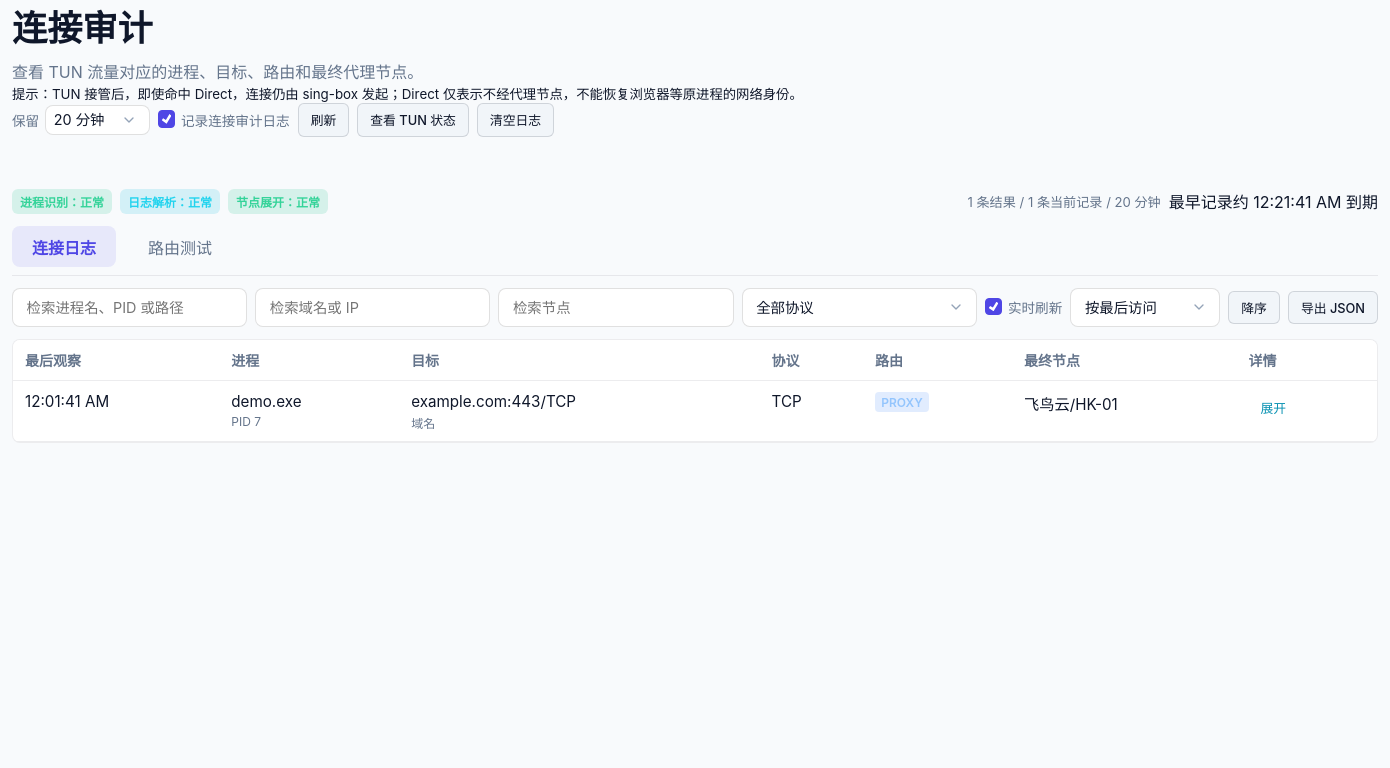
Test case: ConnectionAuditView › renders proxy-default audit rows and retention controls
This screenshot has width=1390, height=768.
Check: the dropdown labelled "保留" is shown, box [45,105,150,135]
Check: the text "DIRECT" is not shown
Step 1. Click the button with class "btn-link" → (1273, 408), box [1248,392,1298,424]
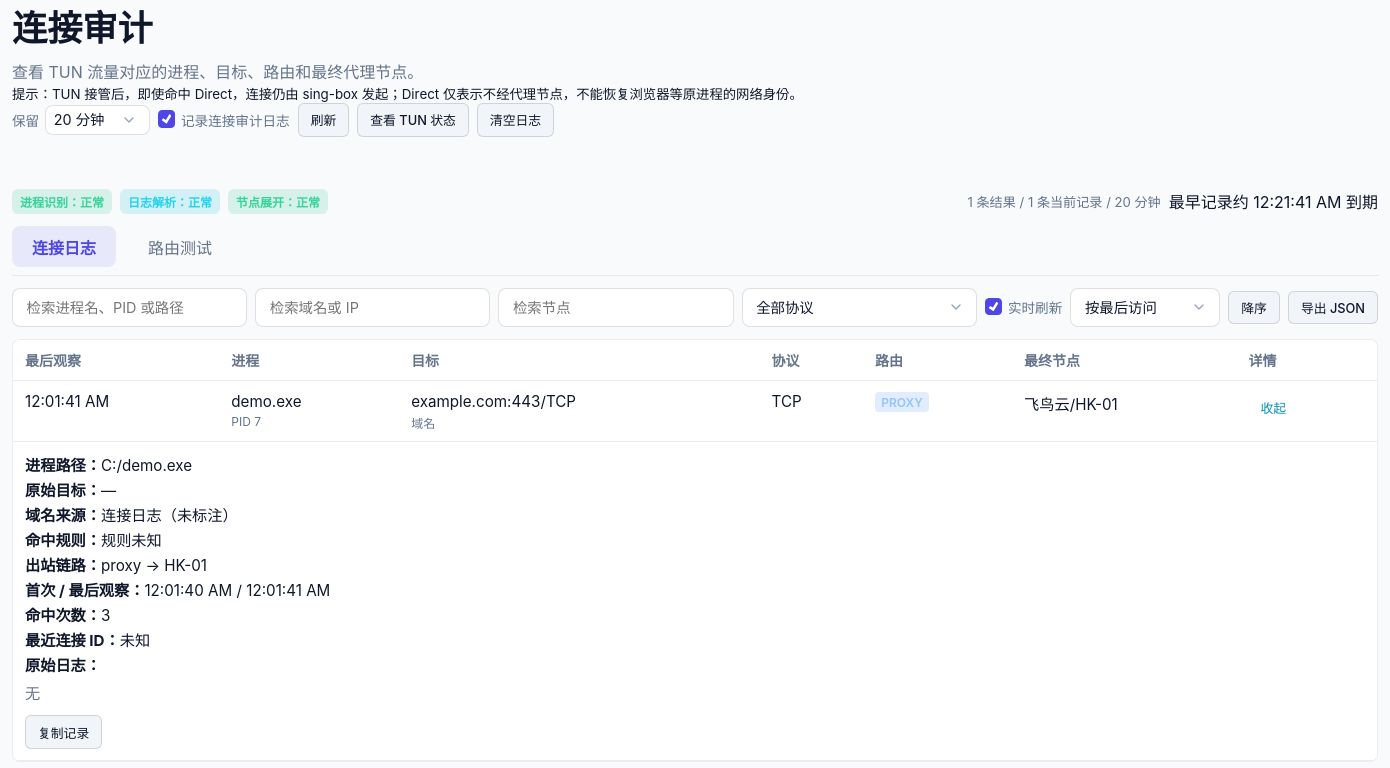
Check: the text "命中次数：3" is shown, box [25,606,110,625]
Check: the text "最近连接 ID：" is shown, box [25,631,120,650]
